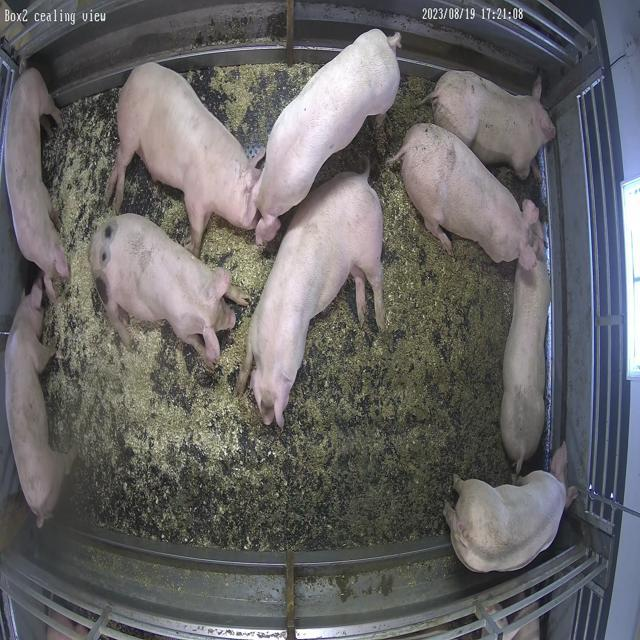Dirt: (135, 79, 514, 550)
Pig: (239, 172, 386, 428), (256, 28, 401, 244), (106, 63, 261, 256), (89, 214, 236, 365), (394, 124, 539, 269), (4, 279, 70, 528), (4, 68, 69, 300), (431, 70, 557, 178), (445, 472, 568, 574), (502, 225, 552, 474)
